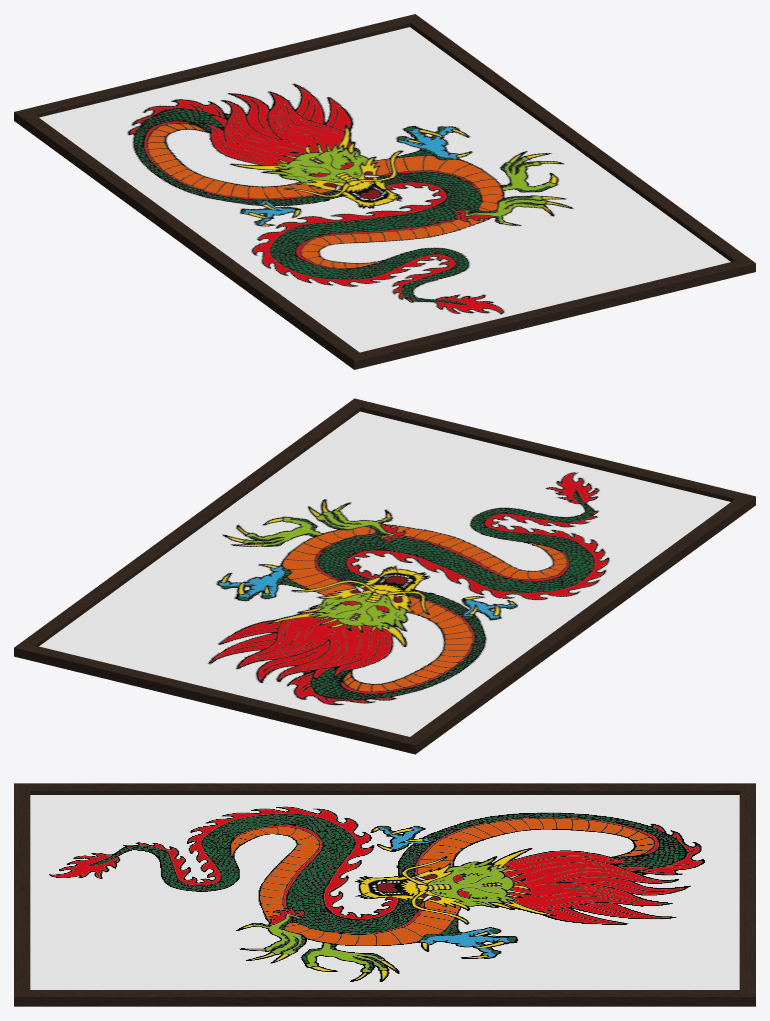
The picture shows the model from 3 angles, top to bottom: view 1: azimuth 30°, elevation 25°; view 2: azimuth 150°, elevation 25°; view 3: azimuth 270°, elevation 25°; orthographic projection. The views are drawn at different scales.
Visible parts, largest first — view 1: Framed poster; view 2: Framed poster; view 3: Framed poster.
Part boxes in pixels (box(x1,y1,x2,y2)): Framed poster: box(14, 14, 755, 369); Framed poster: box(14, 398, 755, 754); Framed poster: box(14, 783, 755, 1006).
Bounding box in the file's own units: 0.9243 × 0.02 × 1.36.
2 materials, 2 textured.
